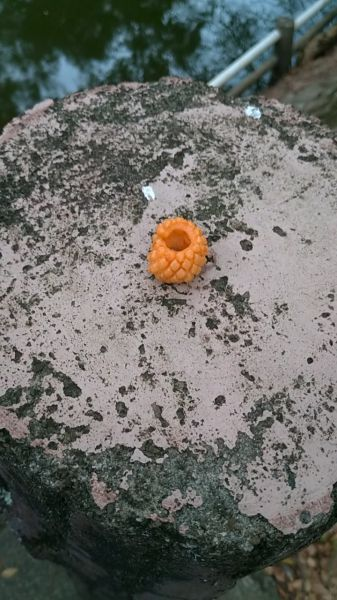eggs: (140, 214, 211, 287)
